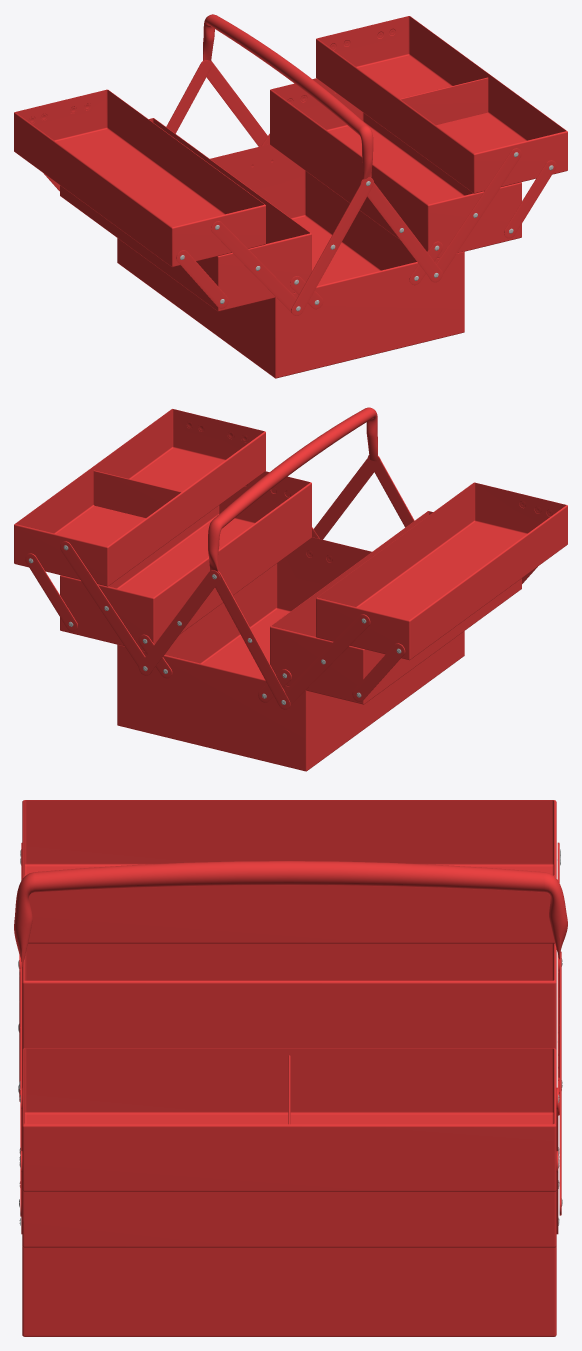
The model's file is tool_box.glb.
3 views of the same model, one above another, from view 1: azimuth 30°, elevation 25°; view 2: azimuth 150°, elevation 25°; view 3: azimuth 270°, elevation 25° (orthographic). The views are drawn at different scales.
Visible parts, largest first — view 1: Object_12, Object_11, Object_10, Object_9, Object_13, Object_7, Object_8; view 2: Object_12, Object_11, Object_10, Object_8, Object_13, Object_9; view 3: Object_12, Object_11, Object_10, Object_13, Object_8.
Part boxes in pixels (x1,y1,x2,y2): Object_12: (14,16,567,378); Object_11: (149,16,565,285); Object_10: (16,60,442,282); Object_9: (176,177,373,315); Object_13: (203,14,373,179); Object_7: (251,148,556,285); Object_8: (206,61,269,146); Object_12: (14,409,567,771); Object_11: (16,409,432,678); Object_10: (215,456,565,709); Object_8: (25,541,370,704); Object_13: (208,407,377,571); Object_9: (258,455,537,702); Object_12: (22,800,556,1336); Object_11: (24,943,554,1124); Object_10: (20,800,559,1216); Object_13: (14,861,567,966); Object_8: (556,842,561,1234).
Size of the model in its own units: 1.97 by 1.12 by 1.42.
